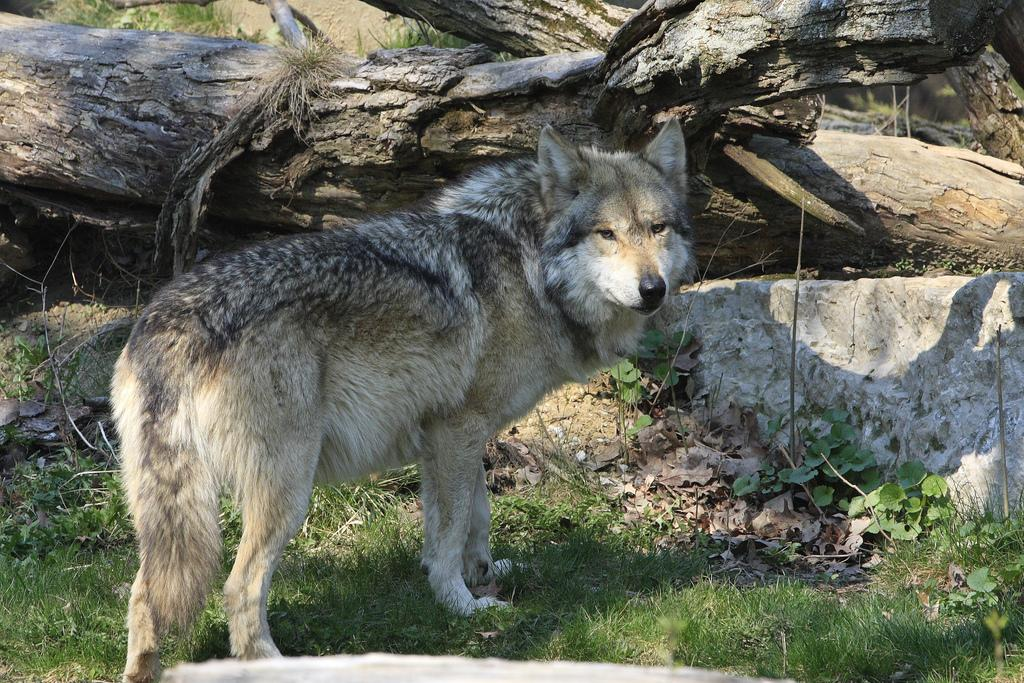Wolf: (109, 115, 691, 683)
